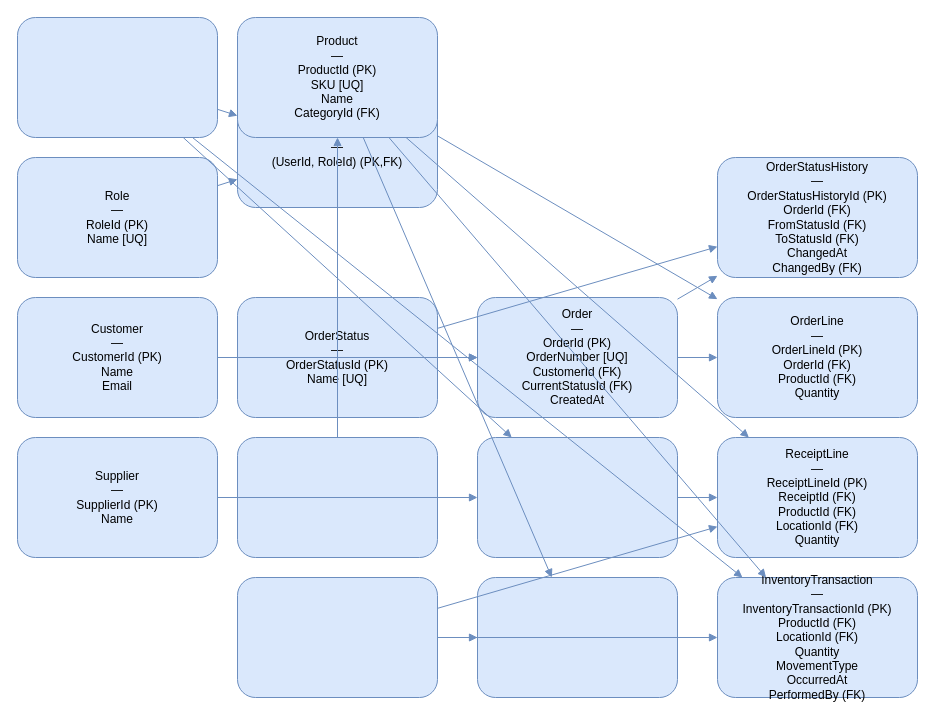
Some shapes in this 935 by 720 pixel diagram are drawn without their labels. The shapes that lost their labels are listed below. From the top down, each one's centre as x and y in pixels, then its label:
At (x=117, y=77): "User — UserId (PK) Email [UQ] DisplayName IsActive CreatedAt".
At (x=337, y=497): "Category — CategoryId (PK) Name [UQ]".
At (x=577, y=497): "Receipt — ReceiptId (PK) SupplierId (FK) ReceivedAt ReceivedBy (FK)".
At (x=337, y=637): "Location — LocationId (PK) Code [UQ]".
At (x=577, y=637): "Inventory — (ProductId, LocationId) (PK,FK) OnHandQty".
